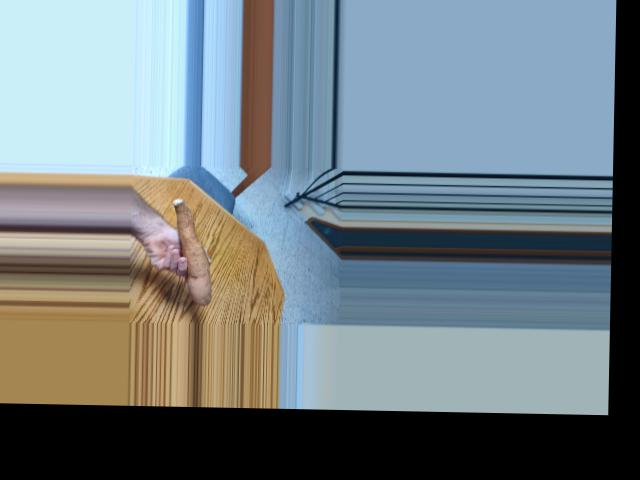sweet_potato: (169, 201, 220, 301)
